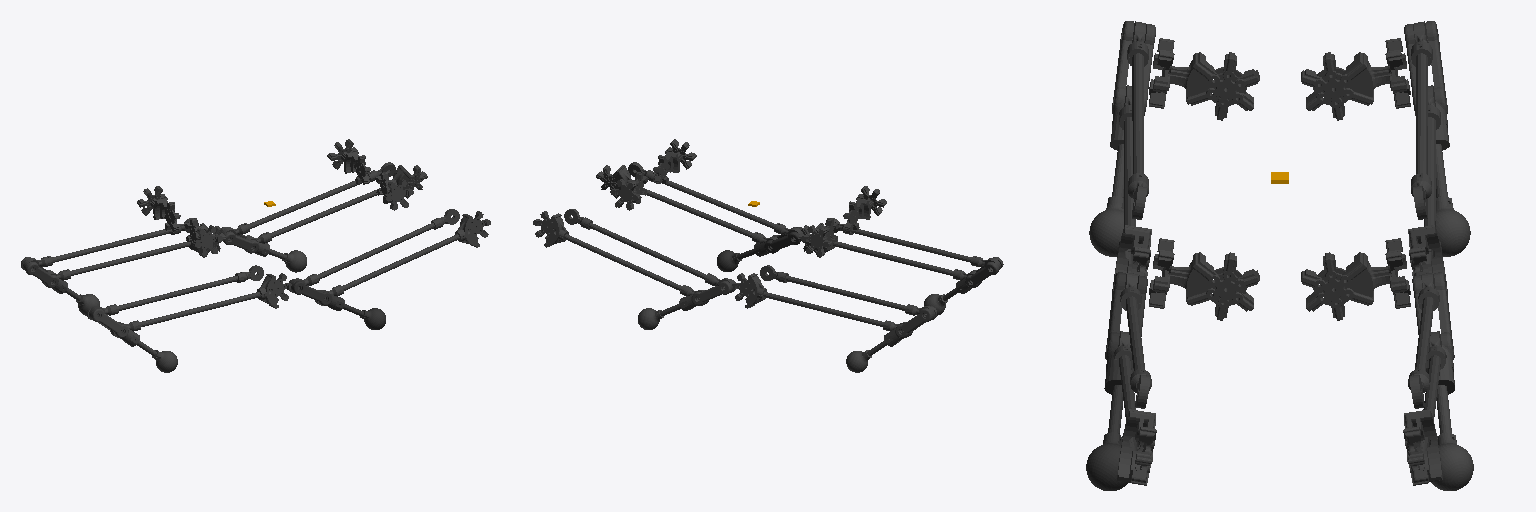
--- Facts derived from the render (not from the file) ---
The picture shows the robot from 3 angles, left to right: view 1: azimuth 30°, elevation 25°; view 2: azimuth 150°, elevation 25°; view 3: azimuth 270°, elevation 25°; orthographic projection.
Robot: husky — 31 links, 30 joints (24 revolute, 6 fixed); root link base; default pose: every joint at zero.
Links seen in each view (by area): view 1: RF_calf, RH_calf, LF_calf, RH_fut, fr_fibula, RF_fut, br_fibula, LF_fut, fl_fibula, LH_calf, LH_fut, bl_fibula (+4 smaller); view 2: LF_calf, LH_calf, RF_calf, LH_fut, fl_fibula, LF_fut, bl_fibula, RF_fut, fr_fibula, RH_calf, RH_fut, br_fibula (+4 smaller); view 3: RH_hip, RF_hip, LF_hip, LH_hip, RH_fut, RF_fut, LH_fut, LF_fut, RF_calf, LF_calf, LH_calf, RH_calf (+4 smaller).
Link boxes in pixels (x1,y1,x2,y2): RF_calf: (315,211,490,305); RH_calf: (111,273,291,337); LF_calf: (244,165,427,251); RH_fut: (87,306,177,372); fr_fibula: (291,209,459,292); RF_fut: (289,279,385,329); br_fibula: (89,265,263,319); LF_fut: (221,227,306,272); fl_fibula: (221,162,395,234); LH_calf: (42,223,226,286); LH_fut: (21,257,99,315); bl_fibula: (23,218,198,269); LF_calf: (533,211,708,305); LH_calf: (732,273,912,337); RF_calf: (596,165,778,251); LH_fut: (846,306,936,372); fl_fibula: (564,209,732,291); LF_fut: (638,279,734,329); bl_fibula: (760,265,934,319); RF_fut: (717,227,802,271); fr_fibula: (628,162,802,234); RH_calf: (797,223,981,286); RH_fut: (924,257,1003,315); br_fibula: (825,218,1000,269); RH_hip: (1149,38,1259,120); RF_hip: (1149,238,1259,320); LF_hip: (1301,238,1410,320); LH_hip: (1301,38,1410,120); RH_fut: (1089,21,1155,256); RF_fut: (1086,272,1147,490); LH_fut: (1404,21,1470,256); LF_fut: (1412,272,1473,490); RF_calf: (1113,331,1156,485); LF_calf: (1403,331,1446,485); LH_calf: (1408,85,1447,290); RH_calf: (1113,85,1151,282).
Size in the robot's own frame: 0.8312 by 0.3233 by 0.2589 metres.
Meshes: 8 distinct files referenced, 16 mesh visuals loaded (5 binary STL); not drawn: 5 (reference not matched to a file when rendering).

URDF robot description (husky):
<?xml version="1.0" ?>
<!-- =================================================================================== -->
<!-- |    This document was autogenerated by xacro from husky.xacro                    | -->
<!-- |    EDITING THIS FILE BY HAND IS NOT RECOMMENDED                                 | -->
<!-- =================================================================================== -->
<robot name="husky">
  <!--aug 17 husky a, fixed inertias, fixedJointLumping, joint Limits-->
  <gazebo>
    <plugin filename="liblegged_hw_sim.so" name="gazebo_ros_control">
      <robotNamespace>/</robotNamespace>
      <robotParam>legged_robot_description</robotParam>
      <robotSimType>legged_gazebo/LeggedHWSim</robotSimType>
    </plugin>
    <plugin filename="libgazebo_ros_p3d.so" name="p3d_base_controller">
      <alwaysOn>true</alwaysOn>
      <updateRate>50.0</updateRate>
      <bodyName>base</bodyName>
      <topicName>ground_truth/state</topicName>
      <gaussianNoise>0</gaussianNoise>
      <frameName>world</frameName>
      <xyzOffsets>0 0 0</xyzOffsets>
      <rpyOffsets>0 0 0</rpyOffsets>
    </plugin>
  </gazebo>
  <!-- Imu is fixed to the base link -->
  <joint name="unitree_imu_joint" type="fixed">
    <origin rpy="0. 0. 0." xyz="0. 0. 0."/>
    <parent link="base"/>
    <child link="unitree_imu"/>
  </joint>
  <!-- Imu link -->
  <link name="unitree_imu">
    <inertial>
      <mass value="0.01"/>
      <origin rpy="0 0 0" xyz="0 0 0"/>
      <inertia ixx="0.000001" ixy="0" ixz="0" iyy="0.000001" iyz="0" izz="0.000001"/>
    </inertial>
    <visual>
      <origin rpy="0 0 0" xyz="0 0 0"/>
      <geometry>
        <box size="0.015 0.015 0.004"/>
      </geometry>
    </visual>
  </link>
  <gazebo reference="unitree_imu">
    <material>Gazebo/Orange</material>
  </gazebo>
  <gazebo reference="unitree_imu_joint">
    <disableFixedJointLumping>true</disableFixedJointLumping>
  </gazebo>
  <!--HUSSAIN SENSORS BEGIN-->
  <!-- Imu is fixed to the base link -->
  <joint name="hussain_imu_joint" type="fixed">
    <origin rpy="0. 0. 0." xyz="0. 0. 0."/>
    <parent link="base"/>
    <child link="hussain_imu"/>
  </joint>
  <!-- Imu link -->
  <link name="hussain_imu">
    <inertial>
      <mass value="0.01"/>
      <origin rpy="0 0 0" xyz="0 0 0"/>
      <inertia ixx="0.000001" ixy="0" ixz="0" iyy="0.000001" iyz="0" izz="0.000001"/>
    </inertial>
    <visual>
      <origin rpy="0 0 0" xyz="0 0 0"/>
      <geometry>
        <box size="0.015 0.015 0.004"/>
      </geometry>
    </visual>
  </link>
  <gazebo reference="hussain_imu_joint">
    <disableFixedJointLumping>true</disableFixedJointLumping>
  </gazebo>
  <gazebo reference="hussain_imu">
    <gravity>true</gravity>
    <sensor name="imu_sensor" type="imu">
      <always_on>true</always_on>
      <update_rate>50</update_rate>
      <visualize>true</visualize>
      <topic>__default_topic__</topic>
      <plugin filename="libgazebo_ros_imu_sensor.so" name="imu_plugin">
        <topicName>imu_link</topicName>
        <bodyName>hussain_imu</bodyName>
        <updateRateHZ>50.0</updateRateHZ>
        <gaussianNoise>0.0</gaussianNoise>
        <xyzOffset>0 0 0</xyzOffset>
        <rpyOffset>0 0 0</rpyOffset>
        <frameName>hussain_imu</frameName>
        <initialOrientationAsReference>false</initialOrientationAsReference>
      </plugin>
      <pose>0 0 0 3.141593 0 0</pose>
    </sensor>
  </gazebo>
  <!--HUSSAIN SENSORS END-->
  <joint name="RF_HAA" type="revolute">
    <parent link="base"/>
    <child link="RF_hip"/>
    <origin rpy="-1.5708 -0.17453292519943295 -1.5708" xyz="0.2087 -0.045 0.0001"/>
    <axis xyz="0.0 0.0 1.0"/>
    <dynamics damping="0.2" friction="0.1"/>
    <limit effort="33.5" lower="-0.08726646259971647" upper="0" velocity="8.7267"/>
  </joint>
  <joint name="LF_HAA" type="revolute">
    <parent link="base"/>
    <child link="LF_hip"/>
    <origin rpy="-1.5708 -2.9670597283903604 -1.5708" xyz="0.2087 0.045 0.0001"/>
    <axis xyz="0.0 0.0 1.0"/>
    <dynamics damping="0.2" friction="0.1"/>
    <limit effort="33.5" lower="0" upper="0.08726646259971647" velocity="8.7267"/>
  </joint>
  <joint name="LH_HAA" type="revolute">
    <parent link="base"/>
    <child link="LH_hip"/>
    <origin rpy="-1.5708 -2.9670597283903604 -1.5708" xyz="-0.1862 0.045 0.0002"/>
    <axis xyz="0 0 1"/>
    <dynamics damping="0.2" friction="0.1"/>
    <limit effort="33.5" lower="0" upper="0.08726646259971647" velocity="8.7267"/>
  </joint>
  <joint name="RH_HAA" type="revolute">
    <parent link="base"/>
    <child link="RH_hip"/>
    <origin rpy="-1.5708 -0.17453292519943295 -1.5708" xyz="-0.1862 -0.045 0.0002"/>
    <axis xyz="0 0 1"/>
    <dynamics damping="0.2" friction="0.1"/>
    <limit effort="33.5" lower="-0.08726646259971647" upper="0" velocity="8.7267"/>
  </joint>
  <joint name="RF_HFE" type="revolute">
    <parent link="RF_hip"/>
    <child link="RF_thigh"/>
    <origin rpy="-1.5708 -2.122494903350304 -1.5708" xyz="0.1031 0.0 0.0"/>
    <axis xyz="0.0 0 1"/>
    <dynamics damping="0.2" friction="0.1"/>
    <limit effort="33.5" lower="-0.20943951023931953" upper="0" velocity="8.7267"/>
  </joint>
  <joint name="LF_HFE" type="revolute">
    <parent link="LF_hip"/>
    <child link="LF_thigh"/>
    <origin rpy="-1.5708 -1.019097750239489 -1.5708" xyz="0.1031 0.0 0.0"/>
    <axis xyz="0 0.0 1"/>
    <dynamics damping="0.2" friction="0.1"/>
    <limit effort="33.5" lower="0" upper="0.20943951023931953" velocity="8.7267"/>
  </joint>
  <joint name="LH_HFE" type="revolute">
    <parent link="LH_hip"/>
    <child link="LH_thigh"/>
    <origin rpy="-1.5708 -0.8496262798708396 -1.5708" xyz="0.1031 0.0 0.0"/>
    <axis xyz="0.0 0.0 1"/>
    <dynamics damping="0.2" friction="0.1"/>
    <limit effort="33.5" lower="0" upper="0.20943951023931953" velocity="8.7267"/>
  </joint>
  <joint name="RH_HFE" type="revolute">
    <parent link="RH_hip"/>
    <child link="RH_thigh"/>
    <origin rpy="-1.5708 -2.2919663737189535 -1.5708" xyz="0.1031 0.0 0.0"/>
    <axis xyz="0.0 0 1"/>
    <dynamics damping="0.2" friction="0.1"/>
    <limit effort="33.5" lower="-0.20943951023931953" upper="0" velocity="8.7267"/>
  </joint>
  <joint name="RF_KFE" type="revolute">
    <parent link="RF_thigh"/>
    <child link="RF_calf"/>
    <origin rpy="0 0 -2.4113468945553653" xyz="0.18 0.0 -0.0431"/>
    <axis xyz="0.0 0.0 1"/>
    <dynamics damping="0.2" friction="0.1"/>
    <limit effort="33.5" lower="0" upper="1.0471975511965976" velocity="8.7267"/>
  </joint>
  <joint name="LF_KFE" type="revolute">
    <parent link="LF_thigh"/>
    <child link="LF_calf"/>
    <origin rpy="0 0 2.4113468945553653" xyz="0.18 0.0 -0.0431"/>
    <axis xyz="0.0 0.0 1"/>
    <dynamics damping="0.2" friction="0.1"/>
    <limit effort="33.5" lower="-1.0471975511965976" upper="0" velocity="8.7267"/>
  </joint>
  <joint name="LH_KFE" type="revolute">
    <parent link="LH_thigh"/>
    <child link="LH_calf"/>
    <origin rpy="0 0 2.4113468945553653" xyz="0.18 0.0 -0.0431"/>
    <axis xyz="0.0 0.0 1"/>
    <dynamics damping="0.2" friction="0.1"/>
    <limit effort="33.5" lower="-1.0471975511965976" upper="0" velocity="8.7267"/>
  </joint>
  <joint name="RH_KFE" type="revolute">
    <parent link="RH_thigh"/>
    <child link="RH_calf"/>
    <origin rpy="0 0 -2.4113468945553653" xyz="0.18 0.0 -0.0431"/>
    <axis xyz="0.0 0.0 1"/>
    <dynamics damping="0.2" friction="0.1"/>
    <limit effort="33.5" lower="0" upper="1.0471975511965976" velocity="8.7267"/>
  </joint>
  <!--ANKLES-->
  <!--REAL FOOT SECTION 1/3 (COMMENT THIS IN, COMMENT BELOW OUT)-->
  <joint name="RF_ankle" type="revolute">
    <parent link="RF_calf"/>
    <child link="RF_fut"/>
    <origin rpy="0 0 2.4113468945553653" xyz="0.333 0.0 0.0"/>
    <axis xyz="0.0 0.0 1.0"/>
    <dynamics damping="0.005" friction="0.1"/>
    <limit effort="33.5" lower="-1.5707963267948966" upper="1.5707963267948966" velocity="8.7267"/>
  </joint>
  <joint name="LF_ankle" type="revolute">
    <parent link="LF_calf"/>
    <child link="LF_fut"/>
    <origin rpy="0 0 -2.4113468945553653" xyz="0.333 0.0 0.0"/>
    <axis xyz="0.0 0.0 1.0"/>
    <dynamics damping="0.005" friction="0.1"/>
    <limit effort="33.5" lower="-1.5707963267948966" upper="1.5707963267948966" velocity="8.7267"/>
  </joint>
  <joint name="LH_ankle" type="revolute">
    <parent link="LH_calf"/>
    <child link="LH_fut"/>
    <origin rpy="0 0 -2.4113468945553653" xyz="0.333 0.0 0.0"/>
    <axis xyz="0.0 0.0 1.0"/>
    <dynamics damping="0.005" friction="0.1"/>
    <limit effort="33.5" lower="-1.5707963267948966" upper="1.5707963267948966" velocity="8.7267"/>
  </joint>
  <joint name="RH_ankle" type="revolute">
    <parent link="RH_calf"/>
    <child link="RH_fut"/>
    <origin rpy="0 0 2.4113468945553653" xyz="0.333 0.0 0.0"/>
    <axis xyz="0.0 0.0 1.0"/>
    <dynamics damping="0.005" friction="0.1"/>
    <limit effort="33.5" lower="-1.5707963267948966" upper="1.5707963267948966" velocity="8.7267"/>
  </joint>
  <joint name="RF_foot_fixed" type="fixed">
    <parent link="RF_fut"/>
    <child link="RF_FOOT"/>
    <origin rpy="0 0 0" xyz="0.0 0.0 0.0"/>
  </joint>
  <joint name="LF_foot_fixed" type="fixed">
    <parent link="LF_fut"/>
    <child link="LF_FOOT"/>
    <origin rpy="0 0 0" xyz="0.0 0.0 0.0"/>
  </joint>
  <joint name="LH_foot_fixed" type="fixed">
    <parent link="LH_fut"/>
    <child link="LH_FOOT"/>
    <origin rpy="0 0 0" xyz="0.0 0.0 0.0"/>
  </joint>
  <joint name="RH_foot_fixed" type="fixed">
    <parent link="RH_fut"/>
    <child link="RH_FOOT"/>
    <origin rpy="0 0 0" xyz="0.0 0.0 0.0"/>
  </joint>
  <gazebo reference="RF_foot_fixed">
    <disableFixedJointLumping>false</disableFixedJointLumping>
  </gazebo>
  <gazebo reference="LF_foot_fixed">
    <disableFixedJointLumping>false</disableFixedJointLumping>
  </gazebo>
  <gazebo reference="LH_foot_fixed">
    <disableFixedJointLumping>false</disableFixedJointLumping>
  </gazebo>
  <gazebo reference="RH_foot_fixed">
    <disableFixedJointLumping>false</disableFixedJointLumping>
  </gazebo>
  <!--LINKS-->
  <link name="base">
    <inertial>
      <mass value="3.1895"/>
      <origin rpy="0.0 0.0 -1.5708" xyz="-0.0301 0 0.0241"/>
      <inertia ixx="0.0170990623" ixy="3.09e-08" ixz="-5.394e-07" iyy="0.0115476717" iyz="4.77948e-05" izz="0.0268461573"/>
    </inertial>
    <collision>
      <origin rpy="0 0 0" xyz="0 0 0"/>
      <geometry>
        <box size="0.3 0.1 0.12"/>
      </geometry>
    </collision>
    <collision>
      <origin rpy="0 0 0" xyz="0 0 -0.1"/>
      <geometry>
        <box size="0.3 0.1 0.28"/>
      </geometry>
    </collision>
    <visual name="base_visual">
      <origin rpy="0.0 0.0 -1.571" xyz="0.0 0.0 0.0"/>
      <geometry>
        <mesh filename="package://husky_description/meshes/body_link.STL" scale="1 1 1"/>
      </geometry>
      <material name="">
        <color rgba="0.251 0.251 0.251 1.0"/>
      </material>
    </visual>
  </link>
  <link name="RF_hip">
    <inertial>
      <mass value="0.295"/>
      <origin rpy="3.1416 0.0 0.0" xyz="0.0236 0 0"/>
      <inertia ixx="0.000402747" ixy="8.709e-06" ixz="-2.97e-07" iyy="0.000691123" iyz="5.45e-07" izz="0.000487919"/>
    </inertial>
    <collision>
      <origin rpy="0.0 1.5708 0.0" xyz="0.02 0 0"/>
      <geometry>
        <cylinder length="0.08" radius="0.03"/>
      </geometry>
    </collision>
    <visual name="RF_hip_visual">
      <origin rpy="3.1416 0.0 0.0" xyz="0.0 0.0 0.0"/>
      <geometry>
        <mesh filename="package://husky_description/meshes/fr_hip.STL" scale="1 1 1"/>
      </geometry>
      <material name="">
        <color rgba="0.298 0.298 0.298 1.0"/>
      </material>
    </visual>
  </link>
  <link name="LF_hip">
    <inertial>
      <mass value="0.295"/>
      <origin rpy="3.1416 0.0 0.0" xyz="0.0236 0 0"/>
      <inertia ixx="0.000402747" ixy="8.709e-06" ixz="-2.97e-07" iyy="0.000691123" iyz="5.45e-07" izz="0.000487919"/>
    </inertial>
    <collision>
      <origin rpy="0.0 1.5708 0.0" xyz="0.02 0 0"/>
      <geometry>
        <cylinder length="0.08" radius="0.03"/>
      </geometry>
    </collision>
    <visual name="LF_hip_visual">
      <origin rpy="3.1416 0.0 0.0" xyz="0.0 0.0 0.0"/>
      <geometry>
        <mesh filename="package://husky_description/meshes/bl_hip.STL" scale="1 1 1"/>
      </geometry>
      <material name="">
        <color rgba="0.298 0.298 0.298 1.0"/>
      </material>
    </visual>
  </link>
  <link name="LH_hip">
    <inertial>
      <mass value="0.295"/>
      <origin rpy="3.1416 0.0 0.0" xyz="0.0236 0 0"/>
      <inertia ixx="0.000402747" ixy="8.709e-06" ixz="-2.97e-07" iyy="0.000691123" iyz="5.45e-07" izz="0.000487919"/>
    </inertial>
    <collision>
      <origin rpy="0.0 1.5708 0.0" xyz="0.02 0 0"/>
      <geometry>
        <cylinder length="0.08" radius="0.03"/>
      </geometry>
    </collision>
    <visual name="LH_hip_visual">
      <origin rpy="3.1416 0.0 0.0" xyz="0.0 0.0 0.0"/>
      <geometry>
        <mesh filename="package://husky_description/meshes/bl_hip.STL" scale="1 1 1"/>
      </geometry>
      <material name="">
        <color rgba="0.298 0.298 0.298 1.0"/>
      </material>
    </visual>
  </link>
  <link name="RH_hip">
    <inertial>
      <mass value="0.295"/>
      <origin rpy="3.1416 0.0 0.0" xyz="0.0236 0 0"/>
      <inertia ixx="0.000402747" ixy="8.709e-06" ixz="-2.97e-07" iyy="0.000691123" iyz="5.45e-07" izz="0.000487919"/>
    </inertial>
    <collision>
      <origin rpy="0.0 1.5708 0.0" xyz="0.02 0 0"/>
      <geometry>
        <cylinder length="0.08" radius="0.03"/>
      </geometry>
    </collision>
    <visual name="RH_hip_visual">
      <origin rpy="3.1416 0.0 0.0" xyz="0.0 0.0 0.0"/>
      <geometry>
        <mesh filename="package://husky_description/meshes/fr_hip.STL" scale="1 1 1"/>
      </geometry>
      <material name="">
        <color rgba="0.298 0.298 0.298 1.0"/>
      </material>
    </visual>
  </link>
  <gazebo reference="RF_hip">
    <mu1>0.2</mu1>
    <mu2>0.2</mu2>
    <material>Gazebo/DarkGrey</material>
  </gazebo>
  <gazebo reference="LF_hip">
    <mu1>0.2</mu1>
    <mu2>0.2</mu2>
    <material>Gazebo/DarkGrey</material>
  </gazebo>
  <gazebo reference="LH_hip">
    <mu1>0.2</mu1>
    <mu2>0.2</mu2>
    <material>Gazebo/DarkGrey</material>
  </gazebo>
  <gazebo reference="RH_hip">
    <mu1>0.2</mu1>
    <mu2>0.2</mu2>
    <material>Gazebo/DarkGrey</material>
  </gazebo>
  <link name="RF_thigh">
    <inertial>
      <mass value="0.3189"/>
      <origin rpy="0 1.5707963267948966 0" xyz="0.1027 0.0 0.0"/>
      <inertia ixx="0.0008" ixy="0" ixz="0" iyy="0.0007" iyz="0" izz="0.0005"/>
    </inertial>
    <collision>
      <origin rpy="0 0 0" xyz="0 0 -0.01"/>
      <geometry>
        <cylinder length="0.06" radius="0.03"/>
      </geometry>
    </collision>
    <collision>
      <origin rpy="0.0 1.5708 0.0" xyz="0.09 0 0"/>
      <geometry>
        <cylinder length="0.2" radius="0.01"/>
      </geometry>
    </collision>
    <collision>
      <origin rpy="0.0 0.0 0.0" xyz="0.18 0 -0.005"/>
      <geometry>
        <cylinder length="0.05" radius="0.03"/>
      </geometry>
    </collision>
    <visual name="RF_thigh_visual">
      <origin rpy="-1.5708 0.0 0.0" xyz="0.0 0.0 0.0"/>
      <geometry>
        <mesh filename="package://husky_description/meshes/fr_femur.STL" scale="1 1 1"/>
      </geometry>
      <material name="">
        <color rgba="1.0 1.0 1.0 1.0"/>
      </material>
    </visual>
  </link>
  <link name="LF_thigh">
    <inertial>
      <mass value="0.3189"/>
      <origin rpy="0.0 1.5707963267948966 0.0" xyz="0.1027 0.0 0.0"/>
      <inertia ixx="0.0008" ixy="0" ixz="0" iyy="0.0007" iyz="0" izz="0.0005"/>
    </inertial>
    <collision>
      <origin rpy="0 0 0" xyz="0 0 -0.01"/>
      <geometry>
        <cylinder length="0.06" radius="0.03"/>
      </geometry>
    </collision>
    <collision>
      <origin rpy="0.0 1.5708 0.0" xyz="0.09 0 0"/>
      <geometry>
        <cylinder length="0.2" radius="0.01"/>
      </geometry>
    </collision>
    <collision>
      <origin rpy="0.0 0.0 0.0" xyz="0.18 0 -0.005"/>
      <geometry>
        <cylinder length="0.05" radius="0.03"/>
      </geometry>
    </collision>
    <visual name="LF_thigh_visual">
      <origin rpy="0 0.0 0.0" xyz="0.0 0.0 0.0"/>
      <geometry>
        <mesh filename="package://husky_description/meshes/bl_femur.STL" scale="1 1 1"/>
      </geometry>
      <material name="">
        <color rgba="1.0 1.0 1.0 1.0"/>
      </material>
    </visual>
  </link>
  <link name="LH_thigh">
    <inertial>
      <mass value="0.3189"/>
      <origin rpy="0.0 1.5707963267948966 0.0" xyz="0.1027 0.0 0.0"/>
      <inertia ixx="0.0008" ixy="0" ixz="0" iyy="0.0007" iyz="0" izz="0.0005"/>
    </inertial>
    <collision>
      <origin rpy="0 0 0" xyz="0 0 -0.01"/>
      <geometry>
        <cylinder length="0.06" radius="0.03"/>
      </geometry>
    </collision>
    <collision>
      <origin rpy="0.0 1.5708 0.0" xyz="0.09 0 0"/>
      <geometry>
        <cylinder length="0.2" radius="0.01"/>
      </geometry>
    </collision>
    <collision>
      <origin rpy="0.0 0.0 0.0" xyz="0.18 0 -0.005"/>
      <geometry>
        <cylinder length="0.05" radius="0.03"/>
      </geometry>
    </collision>
    <visual name="LH_thigh_visual">
      <origin rpy="0 0.0 0.0" xyz="0.0 0.0 0.0"/>
      <geometry>
        <mesh filename="package://husky_description/meshes/bl_femur.STL" scale="1 1 1"/>
      </geometry>
      <material name="">
        <color rgba="1.0 1.0 1.0 1.0"/>
      </material>
    </visual>
  </link>
  <link name="RH_thigh">
    <inertial>
      <mass value="0.3189"/>
      <origin rpy="0.0 1.5707963267948966 0.0" xyz="0.1027 0.0 0.0"/>
      <inertia ixx="0.0008" ixy="0" ixz="0" iyy="0.0007" iyz="0" izz="0.0005"/>
    </inertial>
    <collision>
      <origin rpy="0.0 0.0 0.0" xyz="0 0 -0.01"/>
      <geometry>
        <cylinder length="0.06" radius="0.03"/>
      </geometry>
    </collision>
    <collision>
      <origin rpy="0.0 1.5708 0.0" xyz="0.09 0 0"/>
      <geometry>
        <cylinder length="0.2" radius="0.01"/>
      </geometry>
    </collision>
    <collision>
      <origin rpy="0.0 0.0 0.0" xyz="0.18 0 -0.005"/>
      <geometry>
        <cylinder length="0.05" radius="0.03"/>
      </geometry>
    </collision>
    <visual name="RH_thigh_visual">
      <origin rpy="-1.5708 0.0 0.0" xyz="0.0 0.0 0.0"/>
      <geometry>
        <mesh filename="package://husky_description/meshes/fr_femur.STL" scale="1 1 1"/>
      </geometry>
      <material name="">
        <color rgba="1.0 1.0 1.0 1.0"/>
      </material>
    </visual>
  </link>
  <gazebo reference="RF_thigh">
    <mu1>0.2</mu1>
    <mu2>0.2</mu2>
    <self_collide>0</self_collide>
    <material>Gazebo/DarkGrey</material>
    <kp value="1000000.0"/>
    <kd value="100.0"/>
  </gazebo>
  <gazebo reference="LF_thigh">
    <mu1>0.2</mu1>
    <mu2>0.2</mu2>
    <self_collide>0</self_collide>
    <material>Gazebo/DarkGrey</material>
    <kp value="1000000.0"/>
    <kd value="100.0"/>
  </gazebo>
  <gazebo reference="LH_thigh">
    <mu1>0.2</mu1>
    <mu2>0.2</mu2>
    <self_collide>0</self_collide>
    <material>Gazebo/DarkGrey</material>
    <kp value="1000000.0"/>
    <kd value="100.0"/>
  </gazebo>
  <gazebo reference="RH_thigh">
    <mu1>0.2</mu1>
    <mu2>0.2</mu2>
    <self_collide>0</self_collide>
    <material>Gazebo/DarkGrey</material>
    <kp value="1000000.0"/>
    <kd value="100.0"/>
  </gazebo>
  <link name="RF_calf">
    <inertial>
      <mass value="0.151"/>
      <origin rpy="0 1.5707963267948966 0" xyz="0.15 0.0 0"/>
      <inertia ixx="0.0008" ixy="0.0" ixz="0" iyy="0.0008" iyz="0.0" izz=".00001"/>
    </inertial>
    <collision>
      <origin rpy="0.0 1.5708 0.0" xyz="0.16 0 0"/>
      <geometry>
        <cylinder length="0.32" radius="0.01"/>
      </geometry>
    </collision>
    <visual name="RF_calf_visual">
      <origin rpy="0 0.0 0.0" xyz="0.0 0.0 0.0"/>
      <geometry>
        <mesh filename="package://husky_description/meshes/fr_tibia.STL" scale="1 1 1"/>
      </geometry>
      <material name="">
        <color rgba="0.298 0.298 0.298 1.0"/>
      </material>
    </visual>
  </link>
  <link name="LF_calf">
    <inertial>
      <mass value="0.151"/>
      <origin rpy="0 1.5707963267948966 0" xyz="0.15 0.0 0"/>
      <inertia ixx="0.0008" ixy="0.0" ixz="0" iyy="0.0008" iyz="0.0" izz=".00001"/>
    </inertial>
    <collision>
      <origin rpy="0.0 1.5708 0.0" xyz="0.16 0 0"/>
      <geometry>
        <cylinder length="0.32" radius="0.01"/>
      </geometry>
    </collision>
    <visual name="LF_calf_visual">
      <origin rpy="0 0.0 0.0" xyz="0.0 0.0 0.0"/>
      <geometry>
        <mesh filename="package://husky_description/meshes/fr_tibia.STL" scale="1 1 1"/>
      </geometry>
      <material name="">
        <color rgba="0.298 0.298 0.298 1.0"/>
      </material>
    </visual>
  </link>
  <link name="LH_calf">
    <inertial>
      <mass value="0.151"/>
      <origin rpy="0 1.5707963267948966 0" xyz="0.15 0.0 0"/>
      <inertia ixx="0.0008" ixy="0.0" ixz="0" iyy="0.0008" iyz="0.0" izz=".00001"/>
    </inertial>
    <collision>
      <origin rpy="0.0 1.5708 0.0" xyz="0.16 0 0"/>
      <geometry>
        <cylinder length="0.32" radius="0.01"/>
      </geometry>
    </collision>
    <visual name="LH_calf_visual">
      <origin rpy="0 0.0 0.0" xyz="0.0 0.0 0.0"/>
      <geometry>
        <mesh filename="package://husky_description/meshes/fr_tibia.STL" scale="1 1 1"/>
      </geometry>
      <material name="">
        <color rgba="0.298 0.298 0.298 1.0"/>
      </material>
    </visual>
  </link>
  <link name="RH_calf">
    <inertial>
      <mass value="0.151"/>
      <origin rpy="0 1.5707963267948966 0" xyz="0.15 0.0 0"/>
      <inertia ixx="0.0008" ixy="0.0" ixz="0" iyy="0.0008" iyz="0.0" izz=".00001"/>
    </inertial>
    <collision>
      <origin rpy="0.0 1.5708 0.0" xyz="0.16 0 0"/>
      <geometry>
        <cylinder length="0.32" radius="0.01"/>
      </geometry>
    </collision>
    <visual name="RH_calf_visual">
      <origin rpy="0 0.0 0.0" xyz="0.0 0.0 0.0"/>
      <geometry>
        <mesh filename="package://husky_description/meshes/fr_tibia.STL" scale="1 1 1"/>
      </geometry>
      <material name="">
        <color rgba="0.298 0.298 0.298 1.0"/>
      </material>
    </visual>
  </link>
  <gazebo reference="RF_calf">
    <mu1>0.6</mu1>
    <mu2>0.6</mu2>
    <self_collide>1</self_collide>
  </gazebo>
  <gazebo reference="LF_calf">
    <mu1>0.6</mu1>
    <mu2>0.6</mu2>
    <self_collide>1</self_collide>
  </gazebo>
  <gazebo reference="LH_calf">
    <mu1>0.6</mu1>
    <mu2>0.6</mu2>
    <self_collide>1</self_collide>
  </gazebo>
  <gazebo reference="RH_calf">
    <mu1>0.6</mu1>
    <mu2>0.6</mu2>
    <self_collide>1</self_collide>
  </gazebo>
  <!--REAL FOOT SECTION 2/3 (COMMENT THIS IN, COMMENT BELOW OUT)-->
  <link name="RF_fut">
    <inertial>
      <mass value="0.0716"/>
      <origin rpy="0.0 0.0 0.0" xyz="0.0528 -0.0 0.0"/>
      <inertia ixx="9.7391e-06" ixy="0.0" ixz="-0.0" iyy="4.80545e-05" iyz="0" izz="4.65431e-05"/>
    </inertial>
    <collision>
      <origin rpy="0.0 1.5708 0.0" xyz="0.01 0 0"/>
      <geometry>
        <cylinder length="0.16" radius="0.01"/>
      </geometry>
    </collision>
    <visual name="RF_fut_visual">
      <origin rpy="0.0 0.0 0.0" xyz="0.0 0.0 0.0"/>
      <geometry>
        <mesh filename="package://husky_description/meshes/fr_foot.STL" scale="1 1 1"/>
      </geometry>
      <material name="">
        <color rgba="0.251 0.251 0.251 1.0"/>
      </material>
    </visual>
  </link>
  <link name="LF_fut">
    <inertial>
      <mass value="0.0716"/>
      <origin rpy="0.0 0.0 0.0" xyz="0.0528 0.0 -0.0"/>
      <inertia ixx="9.7391e-06" ixy="0.0" ixz="-0.0" iyy="4.80545e-05" iyz="0" izz="4.65431e-05"/>
    </inertial>
    <collision>
      <origin rpy="0.0 1.5708 0.0" xyz="0.01 0 0"/>
      <geometry>
        <cylinder length="0.16" radius="0.01"/>
      </geometry>
    </collision>
    <visual name="LF_fut_visual">
      <origin rpy="0.0 0.0 0.0" xyz="0.0 0.0 0.0"/>
      <geometry>
        <mesh filename="package://husky_description/meshes/fr_foot.STL" scale="1 1 1"/>
      </geometry>
      <material name="">
        <color rgba="0.298 0.298 0.298 1.0"/>
      </material>
    </visual>
  </link>
  <link name="LH_fut">
    <inertial>
      <mass value="0.0716"/>
      <origin rpy="0.0 0.0 0.0" xyz="0.0528 0.0 -0.0"/>
      <inertia ixx="9.7391e-06" ixy="0.0" ixz="-0.0" iyy="4.80545e-05" iyz="0" izz="4.65431e-05"/>
    </inertial>
    <collision>
      <origin rpy="0.0 1.5708 0.0" xyz="0.01 0 0"/>
      <geometry>
        <cylinder length="0.16" radius="0.01"/>
      </geometry>
    </collision>
    <visual name="LH_fut_visual">
      <origin rpy="0.0 0.0 0.0" xyz="0.0 0.0 0.0"/>
      <geometry>
        <mesh filename="package://husky_description/meshes/fr_foot.STL" scale="1 1 1"/>
      </geometry>
      <material name="">
        <color rgba="0.298 0.298 0.298 1.0"/>
      </material>
    </visual>
  </link>
  <link name="RH_fut">
    <inertial>
      <mass value="0.0716"/>
      <origin rpy="0.0 0.0 0.0" xyz="0.0528 0.0 0.0"/>
      <inertia ixx="9.7391e-06" ixy="0.0" ixz="-0.0" iyy="4.80545e-05" iyz="0" izz="4.65431e-05"/>
    </inertial>
    <collision>
      <origin rpy="0.0 1.5708 0.0" xyz="0.01 0 0"/>
      <geometry>
        <cylinder length="0.16" radius="0.01"/>
      </geometry>
    </collision>
    <visual name="RH_fut_visual">
      <origin rpy="0.0 0.0 0.0" xyz="0.0 0.0 0.0"/>
      <geometry>
        <mesh filename="package://husky_description/meshes/fr_foot.STL" scale="1 1 1"/>
      </geometry>
      <material name="">
        <color rgba="0.298 0.298 0.298 1.0"/>
      </material>
    </visual>
  </link>
  <gazebo reference="RF_fut">
    <mu1>0.6</mu1>
    <mu2>0.6</mu2>
    <material>Gazebo/DarkGrey</material>
  </gazebo>
  <gazebo reference="LF_fut">
    <mu1>0.6</mu1>
    <mu2>0.6</mu2>
    <material>Gazebo/DarkGrey</material>
  </gazebo>
  <gazebo reference="LH_fut">
    <mu1>0.6</mu1>
    <mu2>0.6</mu2>
    <material>Gazebo/DarkGrey</material>
  </gazebo>
  <gazebo reference="RH_fut">
    <mu1>0.6</mu1>
    <mu2>0.6</mu2>
    <material>Gazebo/DarkGrey</material>
  </gazebo>
  <link name="RF_FOOT">
    <inertial>
      <mass value="0.06"/>
      <inertia ixx="9.600000000000001e-06" ixy="0.0" ixz="0.0" iyy="9.600000000000001e-06" iyz="0.0" izz="9.600000000000001e-06"/>
    </inertial>
    <collision>
      <origin rpy="0 0 0" xyz="0.12 0 0"/>
      <geometry>
        <sphere radius="0.02"/>
      </geometry>
    </collision>
  </link>
  <link name="LF_FOOT">
    <inertial>
      <mass value="0.06"/>
      <inertia ixx="9.600000000000001e-06" ixy="0.0" ixz="0.0" iyy="9.600000000000001e-06" iyz="0.0" izz="9.600000000000001e-06"/>
    </inertial>
    <collision>
      <origin rpy="0 0 0" xyz="0.12 0 0"/>
      <geometry>
        <sphere radius="0.02"/>
      </geometry>
    </collision>
  </link>
  <link name="LH_FOOT">
    <inertial>
      <mass value="0.06"/>
      <inertia ixx="9.600000000000001e-06" ixy="0.0" ixz="0.0" iyy="9.600000000000001e-06" iyz="0.0" izz="9.600000000000001e-06"/>
    </inertial>
    <collision>
      <origin rpy="0 0 0" xyz="0.12 0 0"/>
      <geometry>
        <sphere radius="0.02"/>
      </geometry>
    </collision>
  </link>
  <link name="RH_FOOT">
    <inertial>
      <mass value="0.06"/>
      <inertia ixx="9.600000000000001e-06" ixy="0.0" ixz="0.0" iyy="9.600000000000001e-06" iyz="0.0" izz="9.600000000000001e-06"/>
    </inertial>
    <collision>
      <origin rpy="0 0 0" xyz="0.12 0 0"/>
      <geometry>
        <sphere radius="0.02"/>
      </geometry>
    </collision>
  </link>
  <gazebo reference="RF_FOOT">
    <mu1>0.9</mu1>
    <mu2>0.9</mu2>
    <self_collide>1</self_collide>
    <material>Gazebo/DarkGrey</material>
    <kp value="1000000.0"/>
    <kd value="100.0"/>
  </gazebo>
  <gazebo reference="LF_FOOT">
    <mu1>0.9</mu1>
    <mu2>0.9</mu2>
    <self_collide>1</self_collide>
    <material>Gazebo/DarkGrey</material>
    <kp value="1000000.0"/>
    <kd value="100.0"/>
  </gazebo>
  <gazebo reference="LH_FOOT">
    <mu1>0.9</mu1>
    <mu2>0.9</mu2>
    <self_collide>1</self_collide>
    <material>Gazebo/DarkGrey</material>
    <kp value="1000000.0"/>
    <kd value="100.0"/>
  </gazebo>
  <gazebo reference="RH_FOOT">
    <mu1>0.9</mu1>
    <mu2>0.9</mu2>
    <self_collide>1</self_collide>
    <material>Gazebo/DarkGrey</material>
    <kp value="1000000.0"/>
    <kd value="100.0"/>
  </gazebo>
  <!--CONTROL ROD SECTION 1/2-->
  <joint name="fr_control_rod" type="revolute">
    <parent link="RF_thigh"/>
    <child link="fr_fibula"/>
    <origin rpy="0 0.0 -2.4113468945553653" xyz="0.12 0.0 -0.0431"/>
    <axis xyz="0.0 0.0 1.0"/>
    <dynamics damping="0.005" friction="0.005"/>
    <limit effort="33.5" lower="0" upper="1.0471975511965976" velocity="8.7267"/>
  </joint>
  <joint name="fl_control_rod" type="revolute">
    <parent link="LF_thigh"/>
    <child link="fl_fibula"/>
    <origin rpy="0 0.0 2.4113468945553653" xyz="0.12 0.0 -0.0431"/>
    <axis xyz="0.0 0.0 1.0"/>
    <dynamics damping="0.005" friction="0.005"/>
    <limit effort="33.5" lower="-1.0471975511965976" upper="0" velocity="8.7267"/>
  </joint>
  <joint name="bl_control_rod" type="revolute">
    <parent link="LH_thigh"/>
    <child link="bl_fibula"/>
    <origin rpy="0 0.0 2.4113468945553653" xyz="0.12 0.0 -0.0431"/>
    <axis xyz="0.0 0.0 1.0"/>
    <dynamics damping="0.005" friction="0.005"/>
    <limit effort="33.5" lower="-1.0471975511965976" upper="0" velocity="8.7267"/>
  </joint>
  <joint name="br_control_rod" type="revolute">
    <parent link="RH_thigh"/>
    <child link="br_fibula"/>
    <origin rpy="0 0.0 -2.4113468945553653" xyz="0.12 0.0 -0.0431"/>
    <axis xyz="0.0 0.0 1.0"/>
    <dynamics damping="0.005" friction="0.005"/>
    <limit effort="33.5" lower="0" upper="1.0471975511965976" velocity="8.7267"/>
  </joint>
  <link name="fr_fibula">
    <inertial>
      <mass value="0.0281"/>
      <origin rpy="0.0 0.0 0.0" xyz="0.173 -0.0 -0.0001"/>
      <inertia ixx="1.2129e-06" ixy="-0.0" ixz="-4.5e-08" iyy="4.02491e-05" iyz="0.0" izz="4.07848e-05"/>
    </inertial>
    <collision>
      <origin rpy="0.0 1.5708 0.0" xyz="0.14 0 0"/>
      <geometry>
        <cylinder length="0.24" radius="0.01"/>
      </geometry>
    </collision>
    <visual name="fr_fibula_visual">
      <origin rpy="0.0 0.0 0.0" xyz="0.0 0.0 0.0"/>
      <geometry>
        <mesh filename="package://husky_description/meshes/fr_fibula.STL" scale="1 1 1"/>
      </geometry>
      <material name="">
        <color rgba="0.298 0.298 0.298 1.0"/>
      </material>
    </visual>
  </link>
  <link name="fl_fibula">
    <inertial>
      <mass value="0.0281"/>
      <origin rpy="0.0 0.0 0.0" xyz="0.173 -0.0 -0.0001"/>
      <inertia ixx="1.2129e-06" ixy="-0.0" ixz="-4.5e-08" iyy="4.02491e-05" iyz="0.0" izz="4.07848e-05"/>
    </inertial>
    <collision>
      <origin rpy="0.0 1.5708 0.0" xyz="0.14 0 0"/>
      <geometry>
        <cylinder length="0.24" radius="0.01"/>
      </geometry>
    </collision>
    <visual name="fl_fibula_visual">
      <origin rpy="0.0 0.0 0.0" xyz="0.0 0.0 0.0"/>
      <geometry>
        <mesh filename="package://husky_description/meshes/fr_fibula.STL" scale="1 1 1"/>
      </geometry>
      <material name="">
        <color rgba="0.298 0.298 0.298 1.0"/>
      </material>
    </visual>
  </link>
  <link name="bl_fibula">
    <inertial>
      <mass value="0.0281"/>
      <origin rpy="0.0 0.0 0.0" xyz="0.173 -0.0 -0.0001"/>
      <inertia ixx="1.2129e-06" ixy="-0.0" ixz="-4.5e-08" iyy="4.02491e-05" iyz="0.0" izz="4.07848e-05"/>
    </inertial>
    <collision>
      <origin rpy="0.0 1.5708 0.0" xyz="0.14 0 0"/>
      <geometry>
        <cylinder length="0.24" radius="0.01"/>
      </geometry>
    </collision>
    <visual name="bl_fibula_visual">
      <origin rpy="0.0 0.0 0.0" xyz="0.0 0.0 0.0"/>
      <geometry>
        <mesh filename="package://husky_description/meshes/fr_fibula.STL" scale="1 1 1"/>
      </geometry>
      <material name="">
        <color rgba="0.298 0.298 0.298 1.0"/>
      </material>
    </visual>
  </link>
  <link name="br_fibula">
    <inertial>
      <mass value="0.0281"/>
      <origin rpy="0.0 0.0 0.0" xyz="0.173 -0.0 -0.0001"/>
      <inertia ixx="1.2129e-06" ixy="-0.0" ixz="0" iyy="4.02491e-05" iyz="0.0" izz="4.07848e-05"/>
    </inertial>
    <collision>
      <origin rpy="0.0 1.5708 0.0" xyz="0.14 0 0"/>
      <geometry>
        <cylinder length="0.24" radius="0.01"/>
      </geometry>
    </collision>
    <visual name="br_fibula_visual">
      <origin rpy="0.0 0.0 0.0" xyz="0.0 0.0 0.0"/>
      <geometry>
        <mesh filename="package://husky_description/meshes/fr_fibula.STL" scale="1 1 1"/>
      </geometry>
      <material name="">
        <color rgba="0.298 0.298 0.298 1.0"/>
      </material>
    </visual>
  </link>
  
  --&gt;
  
  <!--CONTROL ROD SECTION END-->
  <transmission name="RF_HAA_trans">
    <type>transmission_interface/SimpleTransmission</type>
    <joint name="RF_HAA">
      <hardwareInterface>hardware_interface/EffortJointInterface</hardwareInterface>
    </joint>
    <actuator name="RF_HAA_motor">
      <hardwareInterface>hardware_interface/EffortJointInterface</hardwareInterface>
      <mechanicalReduction>1</mechanicalReduction>
    </actuator>
  </transmission>
  <transmission name="LF_HAA_trans">
    <type>transmission_interface/SimpleTransmission</type>
    <joint name="LF_HAA">
      <hardwareInterface>hardware_interface/EffortJointInterface</hardwareInterface>
    </joint>
    <actuator name="LF_HAA_motor">
      <hardwareInterface>hardware_interface/EffortJointInterface</hardwareInterface>
      <mechanicalReduction>1</mechanicalReduction>
    </actuator>
  </transmission>
  <transmission name="LH_HAA_trans">
    <type>transmission_interface/SimpleTransmission</type>
    <joint name="LH_HAA">
      <hardwareInterface>hardware_interface/EffortJointInterface</hardwareInterface>
    </joint>
    <actuator name="LH_HAA_motor">
      <hardwareInterface>hardware_interface/EffortJointInterface</hardwareInterface>
      <mechanicalReduction>1</mechanicalReduction>
    </actuator>
  </transmission>
  <transmission name="RH_HAA_trans">
    <type>transmission_interface/SimpleTransmission</type>
    <joint name="RH_HAA">
      <hardwareInterface>hardware_interface/EffortJointInterface</hardwareInterface>
    </joint>
    <actuator name="RH_HAA_motor">
      <hardwareInterface>hardware_interface/EffortJointInterface</hardwareInterface>
      <mechanicalReduction>1</mechanicalReduction>
    </actuator>
  </transmission>
  <transmission name="RF_HFE_trans">
    <type>transmission_interface/SimpleTransmission</type>
    <joint name="RF_HFE">
      <hardwareInterface>hardware_interface/EffortJointInterface</hardwareInterface>
    </joint>
    <actuator name="RF_HFE_motor">
      <hardwareInterface>hardware_interface/EffortJointInterface</hardwareInterface>
      <mechanicalReduction>1</mechanicalReduction>
    </actuator>
  </transmission>
  <transmission name="LF_HFE_trans">
    <type>transmission_interface/SimpleTransmission</type>
    <joint name="LF_HFE">
      <hardwareInterface>hardware_interface/EffortJointInterface</hardwareInterface>
    </joint>
    <actuator name="LF_HFE_motor">
      <hardwareInterface>hardware_interface/EffortJointInterface</hardwareInterface>
      <mechanicalReduction>1</mechanicalReduction>
    </actuator>
  </transmission>
  <transmission name="LH_HFE_trans">
    <type>transmission_interface/SimpleTransmission</type>
    <joint name="LH_HFE">
      <hardwareInterface>hardware_interface/EffortJointInterface</hardwareInterface>
    </joint>
    <actuator name="LH_HFE_motor">
      <hardwareInterface>hardware_interface/EffortJointInterface</hardwareInterface>
      <mechanicalReduction>1</mechanicalReduction>
    </actuator>
  </transmission>
  <transmission name="RH_HFE_trans">
    <type>transmission_interface/SimpleTransmission</type>
    <joint name="RH_HFE">
      <hardwareInterface>hardware_interface/EffortJointInterface</hardwareInterface>
    </joint>
    <actuator name="RH_HFE_motor">
      <hardwareInterface>hardware_interface/EffortJointInterface</hardwareInterface>
      <mechanicalReduction>1</mechanicalReduction>
    </actuator>
  </transmission>
  <transmission name="RF_KFE_trans">
    <type>transmission_interface/SimpleTransmission</type>
    <joint name="RF_KFE">
      <hardwareInterface>hardware_interface/EffortJointInterface</hardwareInterface>
    </joint>
    <actuator name="RF_KFE_motor">
      <hardwareInterface>hardware_interface/EffortJointInterface</hardwareInterface>
      <mechanicalReduction>1</mechanicalReduction>
    </actuator>
  </transmission>
  <transmission name="LF_KFE_trans">
    <type>transmission_interface/SimpleTransmission</type>
    <joint name="LF_KFE">
      <hardwareInterface>hardware_interface/EffortJointInterface</hardwareInterface>
    </joint>
    <actuator name="LF_KFE_motor">
      <hardwareInterface>hardware_interface/EffortJointInterface</hardwareInterface>
      <mechanicalReduction>1</mechanicalReduction>
    </actuator>
  </transmission>
  <transmission name="LH_KFE_trans">
    <type>transmission_interface/SimpleTransmission</type>
    <joint name="LH_KFE">
      <hardwareInterface>hardware_interface/EffortJointInterface</hardwareInterface>
    </joint>
    <actuator name="LH_KFE_motor">
      <hardwareInterface>hardware_interface/EffortJointInterface</hardwareInterface>
      <mechanicalReduction>1</mechanicalReduction>
    </actuator>
  </transmission>
  <transmission name="RH_KFE_trans">
    <type>transmission_interface/SimpleTransmission</type>
    <joint name="RH_KFE">
      <hardwareInterface>hardware_interface/EffortJointInterface</hardwareInterface>
    </joint>
    <actuator name="RH_KFE_motor">
      <hardwareInterface>hardware_interface/EffortJointInterface</hardwareInterface>
      <mechanicalReduction>1</mechanicalReduction>
    </actuator>
  </transmission>
  <!--REAL FOOT SECTION 3/3-->
  <transmission name="RF_ankle_trans">
    <type>transmission_interface/SimpleTransmission</type>
    <joint name="RF_ankle">
      <hardwareInterface>hardware_interface/EffortJointInterface</hardwareInterface>
    </joint>
    <actuator name="RF_ankle_motor">
      <hardwareInterface>hardware_interface/EffortJointInterface</hardwareInterface>
      <mechanicalReduction>1</mechanicalReduction>
    </actuator>
  </transmission>
  <transmission name="LF_ankle_trans">
    <type>transmission_interface/SimpleTransmission</type>
    <joint name="LF_ankle">
      <hardwareInterface>hardware_interface/EffortJointInterface</hardwareInterface>
    </joint>
    <actuator name="LF_ankle_motor">
      <hardwareInterface>hardware_interface/EffortJointInterface</hardwareInterface>
      <mechanicalReduction>1</mechanicalReduction>
    </actuator>
  </transmission>
  <transmission name="LH_ankle_trans">
    <type>transmission_interface/SimpleTransmission</type>
    <joint name="LH_ankle">
      <hardwareInterface>hardware_interface/EffortJointInterface</hardwareInterface>
    </joint>
    <actuator name="LH_ankle_motor">
      <hardwareInterface>hardware_interface/EffortJointInterface</hardwareInterface>
      <mechanicalReduction>1</mechanicalReduction>
    </actuator>
  </transmission>
  <transmission name="RH_ankle_trans">
    <type>transmission_interface/SimpleTransmission</type>
    <joint name="RH_ankle">
      <hardwareInterface>hardware_interface/EffortJointInterface</hardwareInterface>
    </joint>
    <actuator name="RH_ankle_motor">
      <hardwareInterface>hardware_interface/EffortJointInterface</hardwareInterface>
      <mechanicalReduction>1</mechanicalReduction>
    </actuator>
  </transmission>
  
  --&gt;
  
  <!--REAL FOOT SECTION END-->
  <!--CONTROL ROD SECTION 2/2-->
  <transmission name="fr_rod_joint_trans">
    <type>transmission_interface/SimpleTransmission</type>
    <joint name="fr_control_rod">
      <hardwareInterface>hardware_interface/EffortJointInterface</hardwareInterface>
    </joint>
    <actuator name="fr_rod_joint_motor">
      <hardwareInterface>hardware_interface/EffortJointInterface</hardwareInterface>
      <mechanicalReduction>1</mechanicalReduction>
    </actuator>
  </transmission>
  <transmission name="fl_rod_joint_trans">
    <type>transmission_interface/SimpleTransmission</type>
    <joint name="fl_control_rod">
      <hardwareInterface>hardware_interface/EffortJointInterface</hardwareInterface>
    </joint>
    <actuator name="fl_rod_joint_motor">
      <hardwareInterface>hardware_interface/EffortJointInterface</hardwareInterface>
      <mechanicalReduction>1</mechanicalReduction>
    </actuator>
  </transmission>
  <transmission name="bl_rod_joint_trans">
    <type>transmission_interface/SimpleTransmission</type>
    <joint name="bl_control_rod">
      <hardwareInterface>hardware_interface/EffortJointInterface</hardwareInterface>
    </joint>
    <actuator name="bl_rod_joint_motor">
      <hardwareInterface>hardware_interface/EffortJointInterface</hardwareInterface>
      <mechanicalReduction>1</mechanicalReduction>
    </actuator>
  </transmission>
  <transmission name="br_rod_joint_trans">
    <type>transmission_interface/SimpleTransmission</type>
    <joint name="br_control_rod">
      <hardwareInterface>hardware_interface/EffortJointInterface</hardwareInterface>
    </joint>
    <actuator name="br_rod_joint_motor">
      <hardwareInterface>hardware_interface/EffortJointInterface</hardwareInterface>
      <mechanicalReduction>1</mechanicalReduction>
    </actuator>
  </transmission>
  
  --&gt;
  
  <!--CONTROL ROD SECTION END-->
  <gazebo>
    <plugin filename="libroboticsgroup_gazebo_mimic_joint_plugin.so" name="RF_foot_fixed_mimic">
      <joint>RF_KFE</joint>
      <mimicJoint>RF_ankle</mimicJoint>
      <has_pid>&quot;false&quot;</has_pid>
      <multiplier>-1</multiplier>
      <offset>0</offset>
      <sensitiveness>0</sensitiveness>
      <maxEffort>15</maxEffort>
      <robotNamespace>/</robotNamespace>
    </plugin>
    <plugin filename="libroboticsgroup_gazebo_mimic_joint_plugin.so" name="LF_foot_fixed_mimic">
      <joint>LF_KFE</joint>
      <mimicJoint>LF_ankle</mimicJoint>
      <has_pid>&quot;false&quot;</has_pid>
      <multiplier>-1</multiplier>
      <offset>0</offset>
      <sensitiveness>0</sensitiveness>
      <maxEffort>15</maxEffort>
      <robotNamespace>/</robotNamespace>
    </plugin>
    <plugin filename="libroboticsgroup_gazebo_mimic_joint_plugin.so" name="RH_foot_fixed_mimic">
      <joint>RH_KFE</joint>
      <mimicJoint>RH_ankle</mimicJoint>
      <has_pid>&quot;false&quot;</has_pid>
      <multiplier>-1</multiplier>
      <offset>0</offset>
      <sensitiveness>0</sensitiveness>
      <maxEffort>15</maxEffort>
      <robotNamespace>/</robotNamespace>
    </plugin>
    <plugin filename="libroboticsgroup_gazebo_mimic_joint_plugin.so" name="LH_foot_fixed_mimic">
      <joint>LH_KFE</joint>
      <mimicJoint>LH_ankle</mimicJoint>
      <has_pid>&quot;false&quot;</has_pid>
      <multiplier>-1</multiplier>
      <offset>0</offset>
      <sensitiveness>0</sensitiveness>
      <maxEffort>15</maxEffort>
      <robotNamespace>/</robotNamespace>
    </plugin>
    <plugin filename="libroboticsgroup_gazebo_mimic_joint_plugin.so" name="fr_control_rod_mimic">
      <joint>RF_KFE</joint>
      <mimicJoint>fr_control_rod</mimicJoint>
      <has_pid>&quot;false&quot;</has_pid>
      <multiplier>1</multiplier>
      <offset>0</offset>
      <sensitiveness>0</sensitiveness>
      <maxEffort>15</maxEffort>
      <robotNamespace>/</robotNamespace>
    </plugin>
    <plugin filename="libroboticsgroup_gazebo_mimic_joint_plugin.so" name="fl_control_rod_mimic">
      <joint>LF_KFE</joint>
      <mimicJoint>fl_control_rod</mimicJoint>
      <has_pid>&quot;false&quot;</has_pid>
      <multiplier>1</multiplier>
      <offset>0</offset>
      <sensitiveness>0</sensitiveness>
      <maxEffort>15</maxEffort>
      <robotNamespace>/</robotNamespace>
    </plugin>
    <plugin filename="libroboticsgroup_gazebo_mimic_joint_plugin.so" name="br_control_rod_mimic">
      <joint>RH_KFE</joint>
      <mimicJoint>br_control_rod</mimicJoint>
      <has_pid>&quot;false&quot;</has_pid>
      <multiplier>1</multiplier>
      <offset>0</offset>
      <sensitiveness>0</sensitiveness>
      <maxEffort>15</maxEffort>
      <robotNamespace>/</robotNamespace>
    </plugin>
    <plugin filename="libroboticsgroup_gazebo_mimic_joint_plugin.so" name="bl_control_rod_mimic">
      <joint>LH_KFE</joint>
      <mimicJoint>bl_control_rod</mimicJoint>
      <has_pid>&quot;false&quot;</has_pid>
      <multiplier>1</multiplier>
      <offset>0</offset>
      <sensitiveness>0</sensitiveness>
      <maxEffort>15</maxEffort>
      <robotNamespace>/</robotNamespace>
    </plugin>
  </gazebo>
  <!--ARDUCOPTER-->
  <link name="front_right_blade">
    <inertial>
      <origin rpy="0 0 0" xyz="0 0 0.0039962219905107"/>
      <mass value="0.00610290216434297"/>
      <inertia ixx="9.75e-06" ixy="0" ixz="0" iyy="0.000166704" iyz="0" izz="0.000167604"/>
    </inertial>
  </link>
  <joint name="front_right_blade_joint" type="revolute">
    <origin rpy="-3.1416 0 -0.0052077" xyz="0 0.162 -0.065427"/>
    <parent link="base"/>
    <child link="front_right_blade"/>
    <axis xyz="0 0 1"/>
    <limit effort="10000" lower="-1e+16" upper="1e+16" velocity="10000"/>
  </joint>
  <link name="rear_left_blade">
    <inertial>
      <origin rpy="0 0 0" xyz="0 0 0.0082946342231609"/>
      <mass value="0.00610274937825579"/>
      <inertia ixx="9.75e-06" ixy="0" ixz="0" iyy="0.000166704" iyz="0" izz="0.000167604"/>
    </inertial>
  </link>
  <joint name="rear_left_blade_joint" type="revolute">
    <origin rpy="-0.0099006 0 0.018227" xyz="0 0.162 0.061129"/>
    <parent link="base"/>
    <child link="rear_left_blade"/>
    <axis xyz="0 -0.0099004 0.99995"/>
    <limit effort="10000" lower="-1e+16" upper="1e+16" velocity="10000"/>
  </joint>
  <link name="front_left_blade">
    <inertial>
      <origin rpy="0 0 0" xyz="0 0 0.0069019562259629"/>
      <mass value="0.0061028301426362"/>
      <inertia ixx="9.75e-06" ixy="0" ixz="0" iyy="0.000166704" iyz="0" izz="0.000167604"/>
    </inertial>
  </link>
  <joint name="front_left_blade_joint" type="revolute">
    <origin rpy="0 0 0" xyz="0 0.162 0.062522"/>
    <parent link="base"/>
    <child link="front_left_blade"/>
    <axis xyz="0 0 1"/>
    <limit effort="10000" lower="-1e+16" upper="1e+16" velocity="10000"/>
  </joint>
  <link name="rear_right_blade">
    <inertial>
      <origin rpy="0 0 0" xyz="0 0 0.00399237045178649"/>
      <mass value="0.00610270077025495"/>
      <inertia ixx="9.75e-06" ixy="0" ixz="0" iyy="0.000166704" iyz="0" izz="0.000167604"/>
    </inertial>
  </link>
  <joint name="rear_right_blade_joint" type="revolute">
    <origin rpy="3.1416 0 0" xyz="0 0.162 -0.065431"/>
    <parent link="base"/>
    <child link="rear_right_blade"/>
    <axis xyz="0 0 1"/>
    <limit effort="10000" lower="-1e+16" upper="1e+16" velocity="10000"/>
  </joint>
  <gazebo>
    <plugin filename="libLiftDragPlugin.so" name="rotor_0_blade_1">
      <a0>0.3</a0>
      <alpha_stall>1.4</alpha_stall>
      <cla>4.2500</cla>
      <cda>0.10</cda>
      <cma>0.00</cma>
      <cla_stall>-0.025</cla_stall>
      <cda_stall>0.0</cda_stall>
      <cma_stall>0.0</cma_stall>
      <area>0.002</area>
      <air_density>1.2041</air_density>
      <cp>0.084 0 0</cp>
      <forward>0 1 0</forward>
      <upward>0 0 1</upward>
      <link_name>front_right_blade</link_name>
    </plugin>
    <plugin filename="libLiftDragPlugin.so" name="rotor_0_blade_2">
      <a0>0.3</a0>
      <alpha_stall>1.4</alpha_stall>
      <cla>4.2500</cla>
      <cda>0.10</cda>
      <cma>0.00</cma>
      <cla_stall>-0.025</cla_stall>
      <cda_stall>0.0</cda_stall>
      <cma_stall>0.0</cma_stall>
      <area>0.002</area>
      <air_density>1.2041</air_density>
      <cp>-0.084 0 0</cp>
      <forward>0 -1 0</forward>
      <upward>0 0 1</upward>
      <link_name>front_right_blade</link_name>
    </plugin>
    <plugin filename="libLiftDragPlugin.so" name="rotor_1_blade_1">
      <a0>0.3</a0>
      <alpha_stall>1.4</alpha_stall>
      <cla>4.2500</cla>
      <cda>0.10</cda>
      <cma>0.00</cma>
      <cla_stall>-0.025</cla_stall>
      <cda_stall>0.0</cda_stall>
      <cma_stall>0.0</cma_stall>
      <area>0.002</area>
      <air_density>1.2041</air_density>
      <cp>0.084 0 0</cp>
      <forward>0 1 0</forward>
      <upward>0 0 1</upward>
      <link_name>rear_left_blade</link_name>
    </plugin>
    <plugin filename="libLiftDragPlugin.so" name="rotor_1_blade_2">
      <a0>0.3</a0>
      <alpha_stall>1.4</alpha_stall>
      <cla>4.2500</cla>
      <cda>0.10</cda>
      <cma>0.00</cma>
      <cla_stall>-0.025</cla_stall>
      <cda_stall>0.0</cda_stall>
      <cma_stall>0.0</cma_stall>
      <area>0.002</area>
      <air_density>1.2041</air_density>
      <cp>-0.084 0 0</cp>
      <forward>0 -1 0</forward>
      <upward>0 0 1</upward>
      <link_name>rear_left_blade</link_name>
    </plugin>
    <plugin filename="libLiftDragPlugin.so" name="rotor_2_blade_1">
      <a0>0.3</a0>
      <alpha_stall>1.4</alpha_stall>
      <cla>4.2500</cla>
      <cda>0.10</cda>
      <cma>0.00</cma>
      <cla_stall>-0.025</cla_stall>
      <cda_stall>0.0</cda_stall>
      <cma_stall>0.0</cma_stall>
      <area>0.002</area>
      <air_density>1.2041</air_density>
      <cp>0.084 0 0</cp>
      <forward>0 -1 0</forward>
      <upward>0 0 1</upward>
      <link_name>front_left_blade</link_name>
    </plugin>
    <plugin filename="libLiftDragPlugin.so" name="rotor_2_blade_2">
      <a0>0.3</a0>
      <alpha_stall>1.4</alpha_stall>
      <cla>4.2500</cla>
      <cda>0.10</cda>
      <cma>0.00</cma>
      <cla_stall>-0.025</cla_stall>
      <cda_stall>0.0</cda_stall>
      <cma_stall>0.0</cma_stall>
      <area>0.002</area>
      <air_density>1.2041</air_density>
      <cp>-0.084 0 0</cp>
      <forward>0 1 0</forward>
      <upward>0 0 1</upward>
      <link_name>front_left_blade</link_name>
    </plugin>
    <plugin filename="libLiftDragPlugin.so" name="rotor_3_blade_1">
      <a0>0.3</a0>
      <alpha_stall>1.4</alpha_stall>
      <cla>4.2500</cla>
      <cda>0.10</cda>
      <cma>0.00</cma>
      <cla_stall>-0.025</cla_stall>
      <cda_stall>0.0</cda_stall>
      <cma_stall>0.0</cma_stall>
      <area>0.002</area>
      <air_density>1.2041</air_density>
      <cp>0.084 0 0</cp>
      <forward>0 -1 0</forward>
      <upward>0 0 1</upward>
      <link_name>rear_right_blade</link_name>
    </plugin>
    <plugin filename="libLiftDragPlugin.so" name="rotor_3_blade_2">
      <a0>0.3</a0>
      <alpha_stall>1.4</alpha_stall>
      <cla>4.2500</cla>
      <cda>0.10</cda>
      <cma>0.00</cma>
      <cla_stall>-0.025</cla_stall>
      <cda_stall>0.0</cda_stall>
      <cma_stall>0.0</cma_stall>
      <area>0.002</area>
      <air_density>1.2041</air_density>
      <cp>-0.084 0 0</cp>
      <forward>0 1 0</forward>
      <upward>0 0 1</upward>
      <link_name>rear_right_blade</link_name>
    </plugin>
    <plugin filename="libArduPilotPlugin.so" name="arducopter_plugin">
      <fdm_addr>127.0.0.1</fdm_addr>
      <fdm_port_in>9002</fdm_port_in>
      <fdm_port_out>9003</fdm_port_out>
      <!--
          Require by APM :
          Only change model and gazebo from XYZ to XY-Z coordinates
      -->
      <modelXYZToAirplaneXForwardZDown>0 0 0 3.141593 0 0</modelXYZToAirplaneXForwardZDown>
      <gazeboXYZToNED>0 0 0 3.141593 0 0</gazeboXYZToNED>
      <imuName>m4/imu_link::imu_sensor</imuName>
      <connectionTimeoutMaxCount>5</connectionTimeoutMaxCount>
      <control channel="0">
        <!--
          incoming control command [0, 1]
          so offset it by 0 to get [0, 1]
          and divide max target by 1.
          offset = 0
          multiplier = 838 max rpm / 1 = 838
        -->
        <type>VELOCITY</type>
        <offset>0</offset>
        <p_gain>0.2</p_gain>
        <i_gain>0</i_gain>
        <d_gain>0</d_gain>
        <i_max>0</i_max>
        <i_min>0</i_min>
        <cmd_max>2.5</cmd_max>
        <cmd_min>-2.5</cmd_min>
        <jointName>front_right_blade_joint</jointName>
        <multiplier>1898</multiplier>
        <controlVelocitySlowdownSim>1</controlVelocitySlowdownSim>
      </control>
      <control channel="1">
        <type>VELOCITY</type>
        <offset>0</offset>
        <p_gain>0.2</p_gain>
        <i_gain>0</i_gain>
        <d_gain>0</d_gain>
        <i_max>0</i_max>
        <i_min>0</i_min>
        <cmd_max>2.5</cmd_max>
        <cmd_min>-2.5</cmd_min>
        <jointName>rear_left_blade_joint</jointName>
        <multiplier>1898</multiplier>
        <controlVelocitySlowdownSim>1</controlVelocitySlowdownSim>
      </control>
      <control channel="2">
        <type>VELOCITY</type>
        <offset>0</offset>
        <p_gain>0.2</p_gain>
        <i_gain>0</i_gain>
        <d_gain>0</d_gain>
        <i_max>0</i_max>
        <i_min>0</i_min>
        <cmd_max>2.5</cmd_max>
        <cmd_min>-2.5</cmd_min>
        <jointName>front_left_blade_joint</jointName>
        <multiplier>-1898</multiplier>
        <controlVelocitySlowdownSim>1</controlVelocitySlowdownSim>
      </control>
      <control channel="3">
        <type>VELOCITY</type>
        <offset>0</offset>
        <p_gain>0.2</p_gain>
        <i_gain>0</i_gain>
        <d_gain>0</d_gain>
        <i_max>0</i_max>
        <i_min>0</i_min>
        <cmd_max>2.5</cmd_max>
        <cmd_min>-2.5</cmd_min>
        <jointName>rear_right_blade_joint</jointName>
        <multiplier>-1898</multiplier>
        <controlVelocitySlowdownSim>1</controlVelocitySlowdownSim>
      </control>
    </plugin>
  </gazebo>
</robot>
